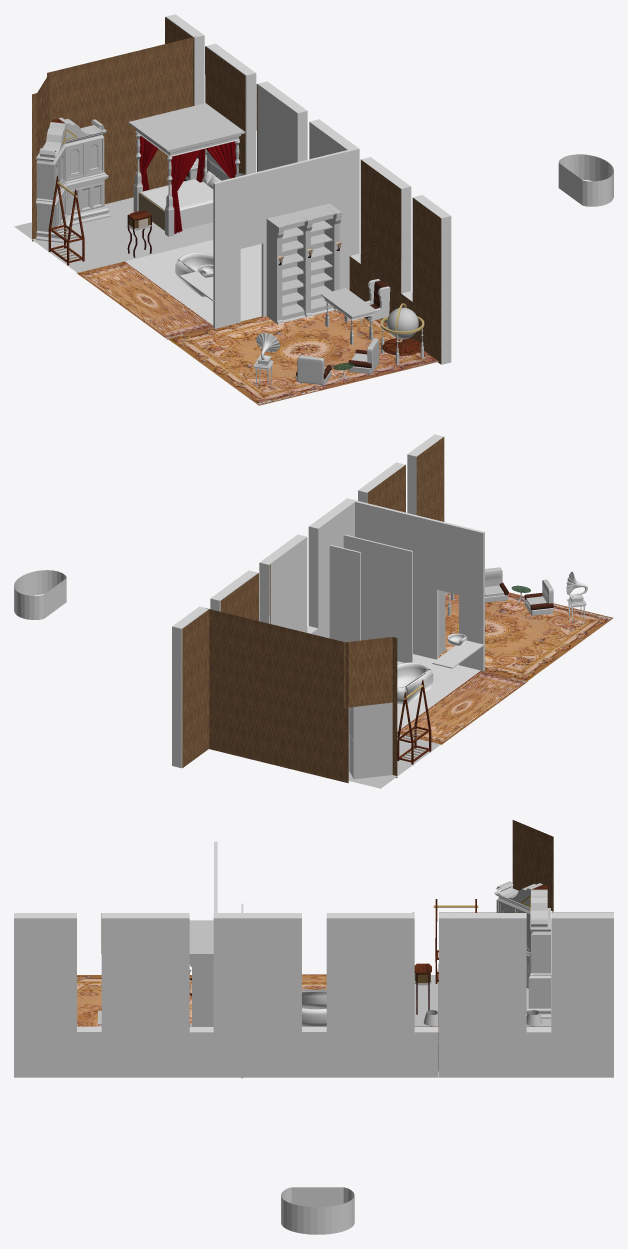
Rendered from dead's room.fbx.
3 renders of one model, top to bottom at view 1: azimuth 30°, elevation 25°; view 2: azimuth 150°, elevation 25°; view 3: azimuth 270°, elevation 25°, orthographic. The views are drawn at different scales.
Visible parts, largest first — view 1: Cube.702, Cube.927, Plane.105, Cube.699, Cube.935, Cube.932, Plane.103, Plane.000, Plane.104, Cube.694, Plane.108, Cube.717 (+16 smaller); view 2: Cube.927, Cube.702, Cube.699, Plane.105, Cube.012, Cube.717, Plane.000, Cube.935, Plane.111, Cube.926, Cube.011, Circle.023 (+7 smaller); view 3: Cube.702, Circle.023, Cube.926, Cube.932, Plane.108, Plane.105, Plane.103, Circle.011, Plane.111, Plane.107.
Boxes of the visible parts, x1,y1,x2,y2 form: Cube.702: (166,14,451,364); Cube.927: (47,36,195,204); Plane.105: (168,310,438,405); Cube.699: (213,150,349,328); Cube.935: (349,160,441,364); Cube.932: (266,203,341,324); Plane.103: (14,197,213,272); Plane.000: (76,261,213,339); Plane.104: (125,240,261,325); Cube.694: (128,103,245,156); Plane.108: (64,125,110,224); Cube.717: (165,17,257,173); Cube.927: (206,608,348,783); Cube.702: (172,434,443,768); Cube.699: (355,500,484,670); Plane.105: (438,592,613,680); Cube.012: (343,534,412,662); Cube.717: (182,564,270,767); Plane.000: (397,670,527,744); Cube.935: (367,437,444,521); Plane.111: (349,702,397,779); Cube.926: (344,637,392,707); Cube.011: (329,545,360,642); Circle.023: (14,570,66,619); Cube.702: (14,913,613,1077); Circle.023: (281,1187,354,1234); Cube.926: (512,820,553,911); Cube.932: (189,920,213,1026); Plane.108: (526,908,550,1018); Plane.105: (77,975,191,1026); Plane.103: (414,975,551,1070); Circle.011: (302,989,326,1026); Plane.111: (494,887,531,989); Plane.107: (531,889,547,927).
Bounding box in the file's own units: 976 × 287 × 956.
